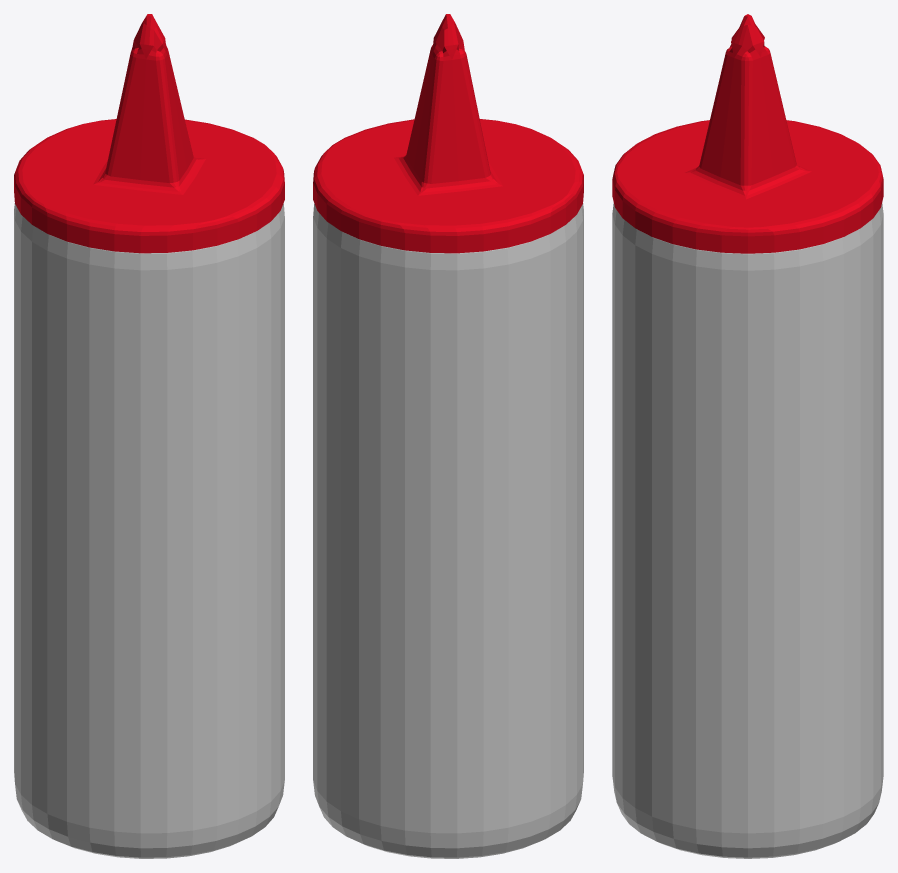
File: Ketchup.fbx
3 renders of one model, left to right at view 1: azimuth 30°, elevation 25°; view 2: azimuth 150°, elevation 25°; view 3: azimuth 270°, elevation 25°, orthographic.
Parts seen in each view (by area): view 1: Cylinder, Circle; view 2: Cylinder, Circle; view 3: Cylinder, Circle.
Boxes of the visible parts, left/top/right/bottom form: Cylinder: left=14, top=203, right=284, bottom=858; Circle: left=14, top=14, right=284, bottom=253; Cylinder: left=313, top=203, right=583, bottom=858; Circle: left=313, top=14, right=583, bottom=253; Cylinder: left=612, top=203, right=883, bottom=858; Circle: left=612, top=14, right=883, bottom=253.
Size of the model in its own units: 200 by 645 by 200.
